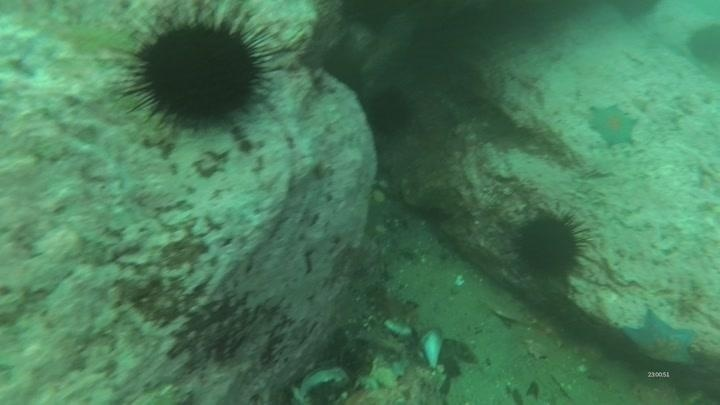echinus: (119, 8, 279, 135), (509, 206, 591, 282), (363, 85, 417, 138), (334, 1, 411, 34), (685, 21, 720, 68)
starfish: (619, 305, 699, 369), (586, 101, 640, 149)
